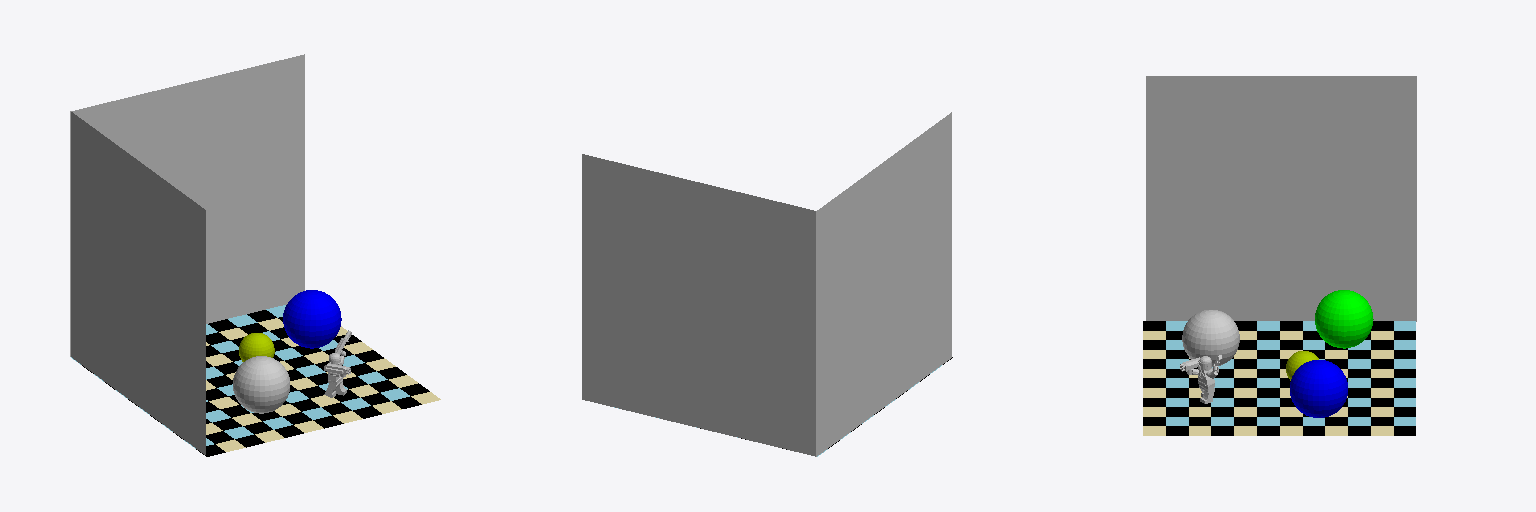
3 renders of one model, left to right at view 1: azimuth 30°, elevation 25°; view 2: azimuth 150°, elevation 25°; view 3: azimuth 270°, elevation 25°, orthographic.
Visible parts, largest first — view 1: Plane.001, Plane.002, Plane, Sphere, Sphere.002, Sphere.001; view 2: Plane.001, Plane.002; view 3: Plane.002, Plane, Sphere.003, Sphere, Sphere.002.
Part boxes in pixels (bbox=[...]): Plane.001: bbox=[70, 54, 304, 356]; Plane.002: bbox=[71, 112, 205, 454]; Plane: bbox=[71, 305, 440, 456]; Sphere: bbox=[283, 290, 341, 348]; Sphere.002: bbox=[233, 356, 289, 413]; Sphere.001: bbox=[239, 333, 274, 361]; Plane.001: bbox=[582, 154, 815, 456]; Plane.002: bbox=[816, 112, 951, 456]; Plane.002: bbox=[1146, 76, 1416, 321]; Plane: bbox=[1143, 321, 1415, 435]; Sphere.003: bbox=[1315, 290, 1373, 348]; Sphere: bbox=[1290, 360, 1347, 417]; Sphere.002: bbox=[1182, 310, 1239, 366].
Bounding box in the file's own units: 9.22 × 9.25 × 9.3.
7 materials, 1 textured.